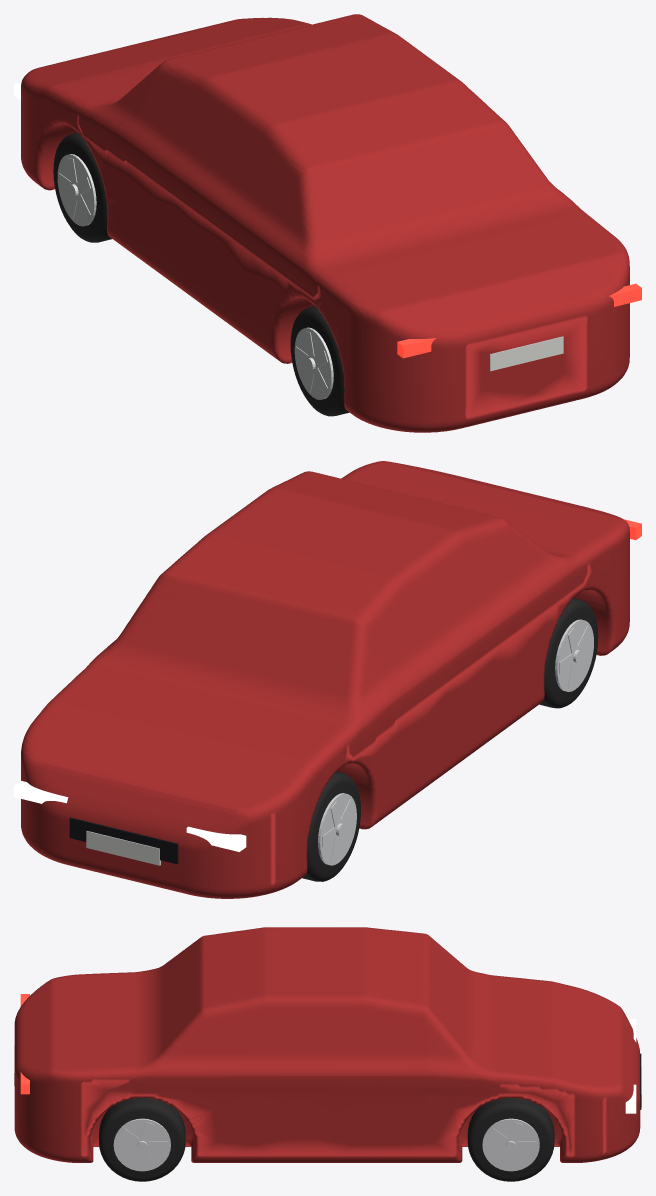
The model's file is sedan_red.glb.
3 renders of one model, top to bottom at view 1: azimuth 30°, elevation 25°; view 2: azimuth 150°, elevation 25°; view 3: azimuth 270°, elevation 25°, orthographic. The views are drawn at different scales.
Parts seen in each view (by area): view 1: Body, wheel_rl, wheel_fl, Details; view 2: Body, Details, wheel_rl, wheel_fl; view 3: Body, wheel_fr, wheel_rr, Details.
Boxes of the visible parts, bbox=[...] form: Body: bbox=[21, 14, 629, 432]; wheel_rl: bbox=[290, 306, 349, 416]; wheel_fl: bbox=[53, 132, 111, 242]; Details: bbox=[14, 82, 641, 371]; Body: bbox=[21, 461, 629, 898]; Details: bbox=[14, 519, 641, 865]; wheel_rl: bbox=[539, 598, 598, 708]; wheel_fl: bbox=[302, 771, 360, 881]; Body: bbox=[14, 927, 640, 1162]; wheel_fr: bbox=[467, 1098, 554, 1181]; wheel_rr: bbox=[99, 1098, 185, 1181]; Details: bbox=[14, 994, 641, 1113].
Bounding box in the file's own units: 1.84 × 1.45 × 4.77.
